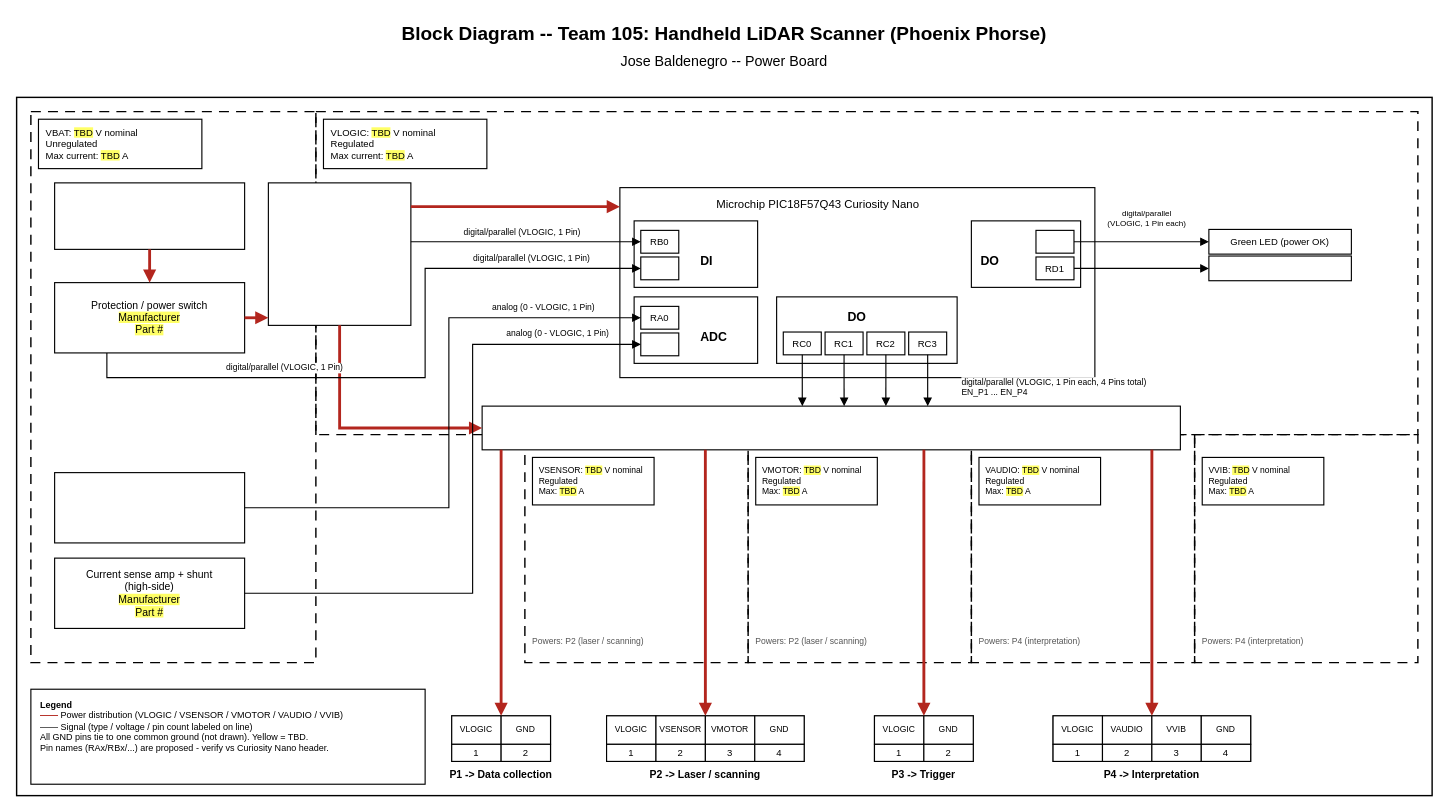
This 1450x812 diagram has some shape labels left out. The centre of each missing label's shape, as x and y in pixels:
"Battery pack (chemistry / capacity TBD) Manufacturer Part #" belongs at [149,215].
"Battery voltage divider (resistors) Manufacturer Part #" belongs at [149,507].
"Load switches x4 (one per board: P1, P2, P3, P4) Manufacturer Part #" belongs at [830,427].
"RA1" belongs at [659,344].
"RB1" belongs at [659,268].
"RD0" belongs at [1054,241].
"Red LED (fault)" belongs at [1279,268].
"Voltage regulators VLOGIC, VSENSOR, VMOTOR, VAUDIO, VVIB Manufacturer Part #" belongs at [339,253].
